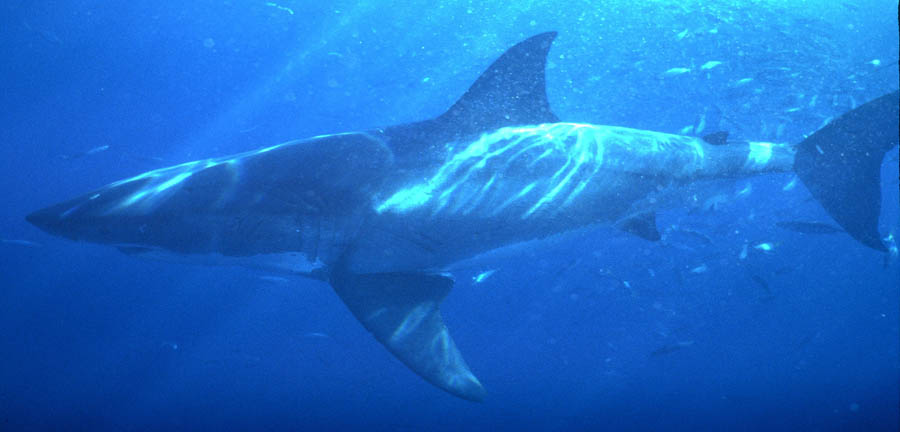Carcharodon_carcharias: (6, 9, 895, 410)
